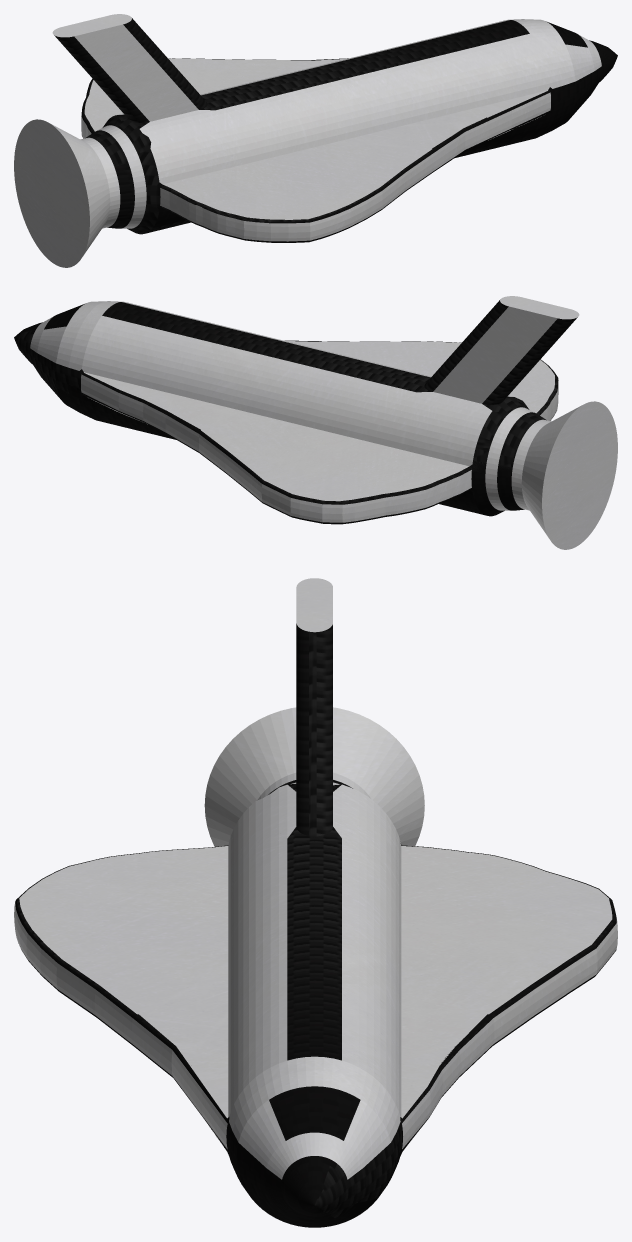
Rendered from NaveEspacial.fbx.
3 renders of one model, top to bottom at view 1: azimuth 30°, elevation 25°; view 2: azimuth 150°, elevation 25°; view 3: azimuth 270°, elevation 25°, orthographic. The views are drawn at different scales.
Parts seen in each view (by area): view 1: Cylinder.001; view 2: Cylinder.001; view 3: Cylinder.001.
Part boxes in pixels (left/top/right/bottom): Cylinder.001: left=14, top=14, right=617, bottom=267; Cylinder.001: left=14, top=296, right=617, bottom=549; Cylinder.001: left=14, top=578, right=617, bottom=1227.
Bounding box in the file's own units: 1423 × 545 × 908.
